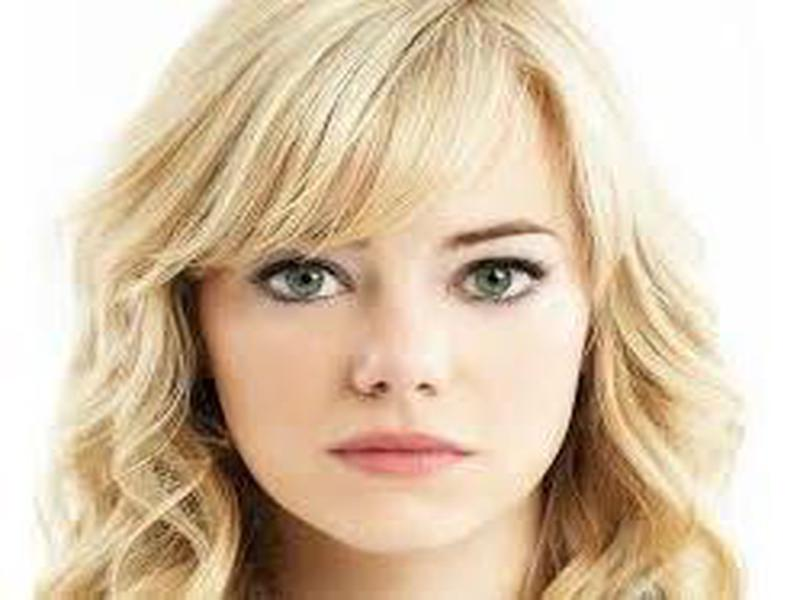without_mask: (195, 168, 585, 548)
